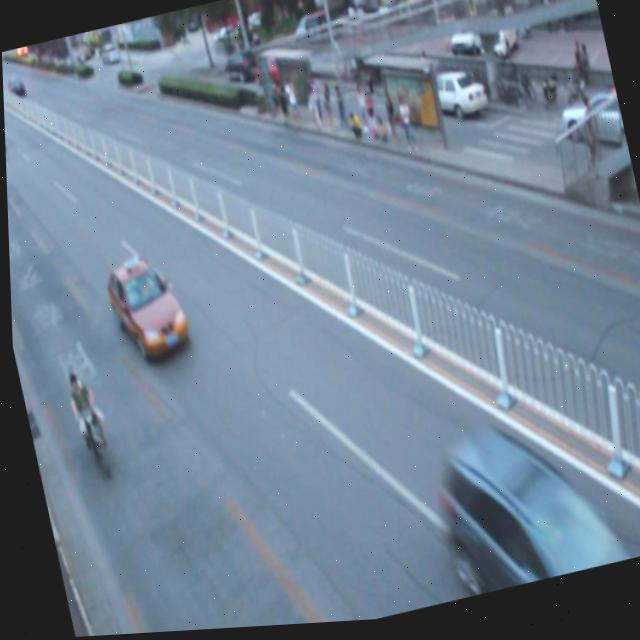car: (427, 411, 640, 604), (97, 250, 190, 372)
